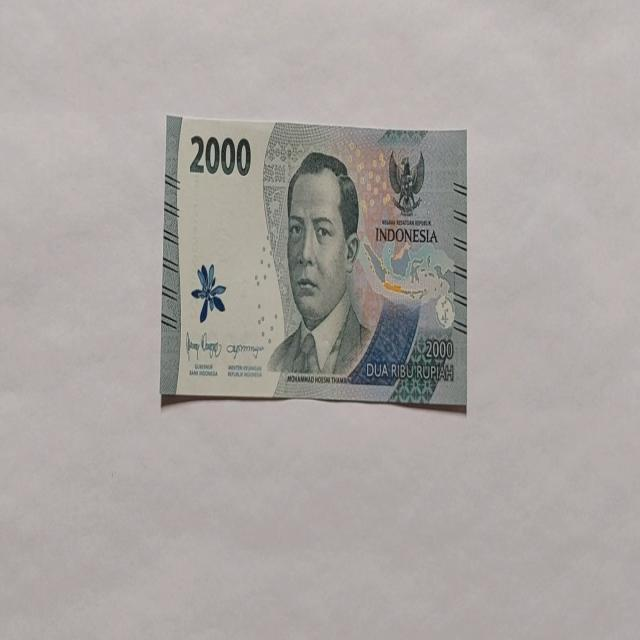dua ribu rupiah: (160, 113, 468, 408), (266, 150, 372, 382)
